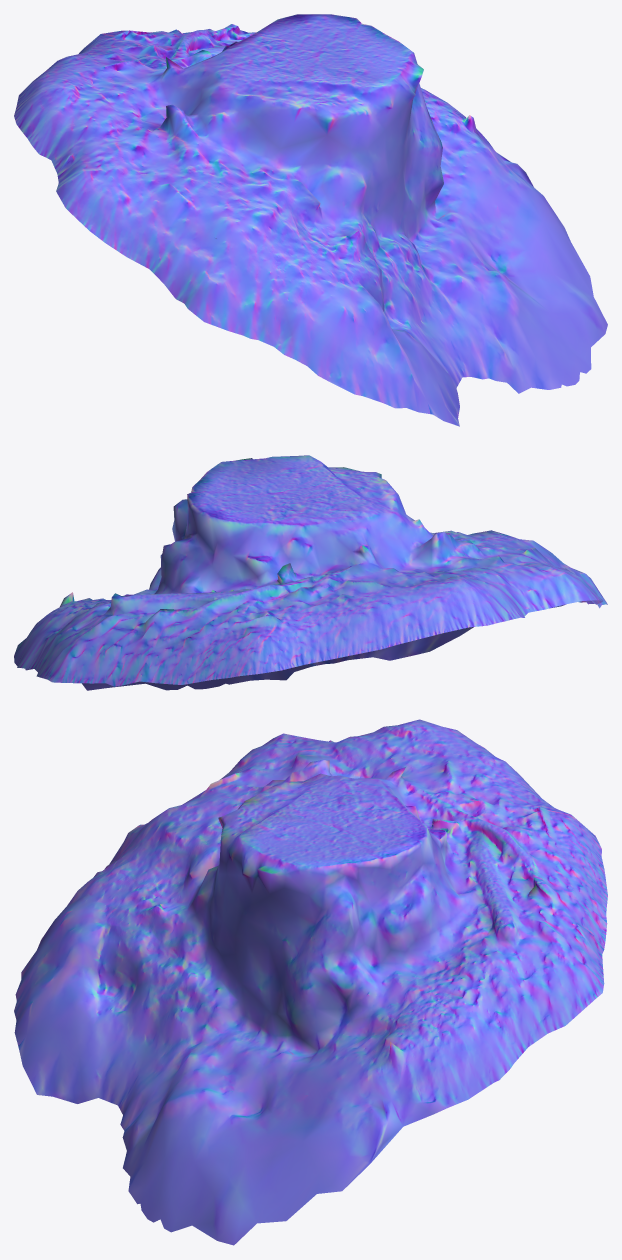
Rendered from TerrainDeco007 Mossy Variant.fbx.
The picture shows the model from 3 angles, top to bottom: view 1: azimuth 30°, elevation 25°; view 2: azimuth 150°, elevation 25°; view 3: azimuth 270°, elevation 25°; orthographic projection. The views are drawn at different scales.
Parts seen in each view (by area): view 1: TD07_LOD0; view 2: TD07_LOD0; view 3: TD07_LOD0.
Part boxes in pixels (x1=…): TD07_LOD0: x1=14, y1=14, x2=607, y2=426; TD07_LOD0: x1=14, y1=455, x2=607, y2=690; TD07_LOD0: x1=14, y1=719, x2=607, y2=1245.
Size of the model in its own units: 284 by 157 by 268.
